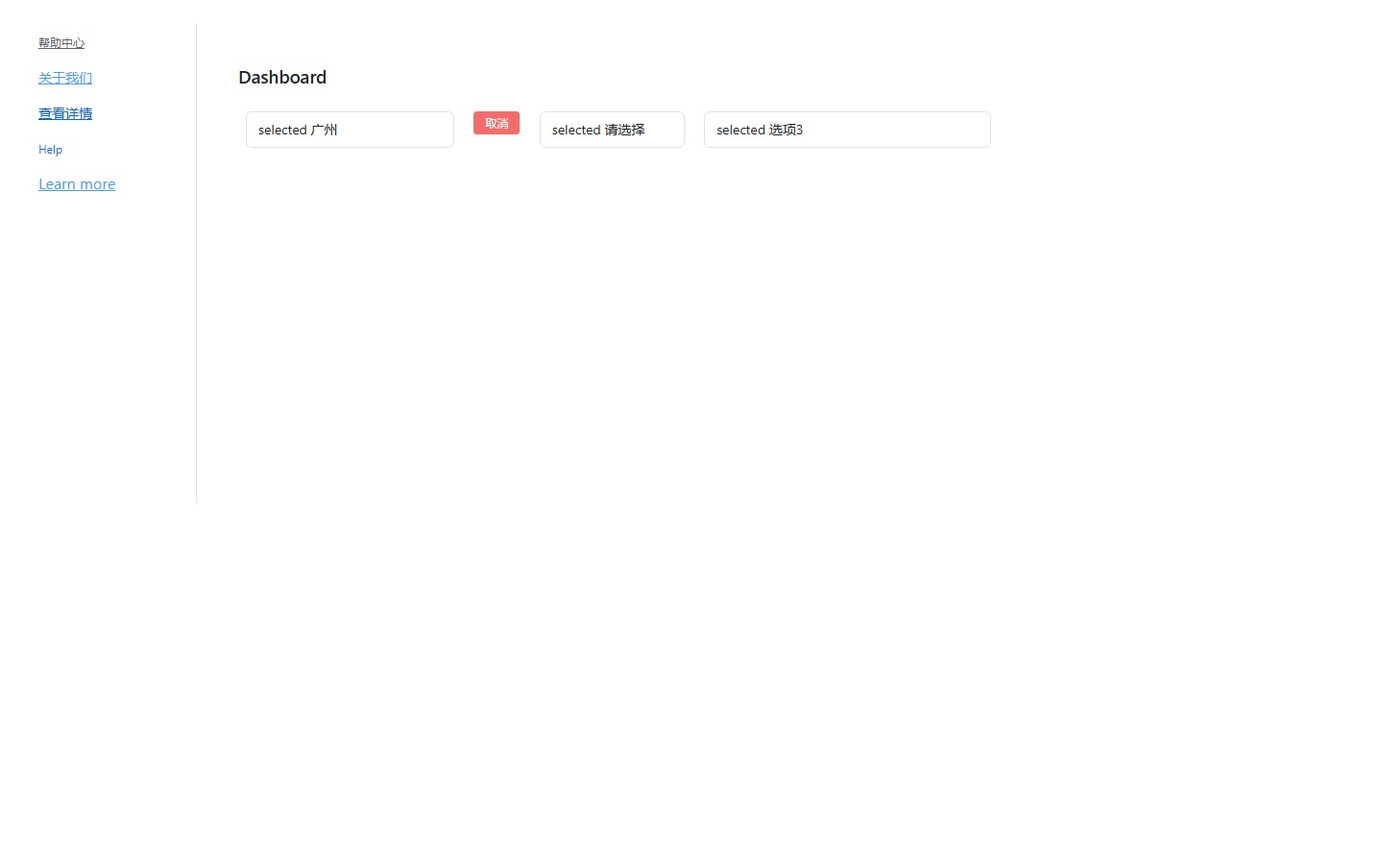button: (474, 111, 520, 134)
link: (38, 173, 115, 193), (38, 68, 92, 86), (38, 104, 92, 122), (38, 35, 85, 50), (38, 141, 62, 156)
select: (704, 111, 991, 148), (246, 111, 454, 148), (540, 111, 685, 148)
